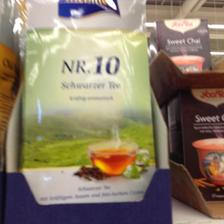Tee: (21, 0, 154, 200), (166, 88, 222, 201), (156, 16, 212, 72)
